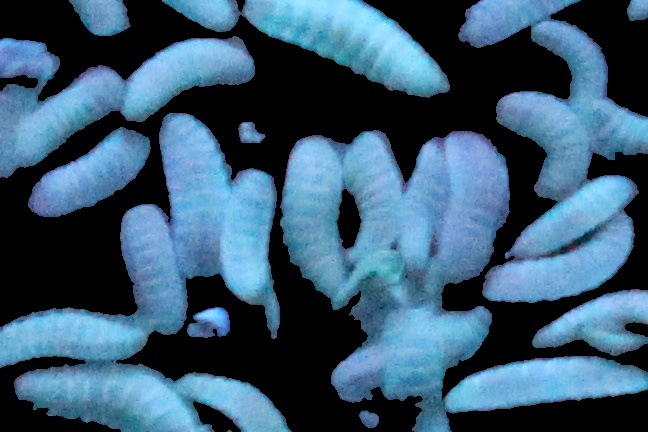larvae: (242, 1, 451, 95), (330, 308, 492, 396), (13, 362, 201, 432), (483, 213, 632, 300), (153, 114, 233, 273), (273, 135, 346, 300), (446, 358, 647, 414), (16, 66, 123, 171), (437, 130, 510, 283), (27, 130, 148, 215), (511, 177, 636, 259), (498, 94, 591, 198), (114, 204, 188, 334), (1, 310, 153, 372), (340, 130, 401, 261), (114, 52, 242, 113), (174, 369, 296, 432), (532, 286, 648, 348), (223, 174, 276, 302), (380, 304, 445, 404), (459, 1, 585, 50), (535, 26, 610, 108), (403, 138, 441, 268), (1, 85, 42, 182), (590, 101, 648, 152), (164, 1, 240, 36), (581, 323, 644, 357)
